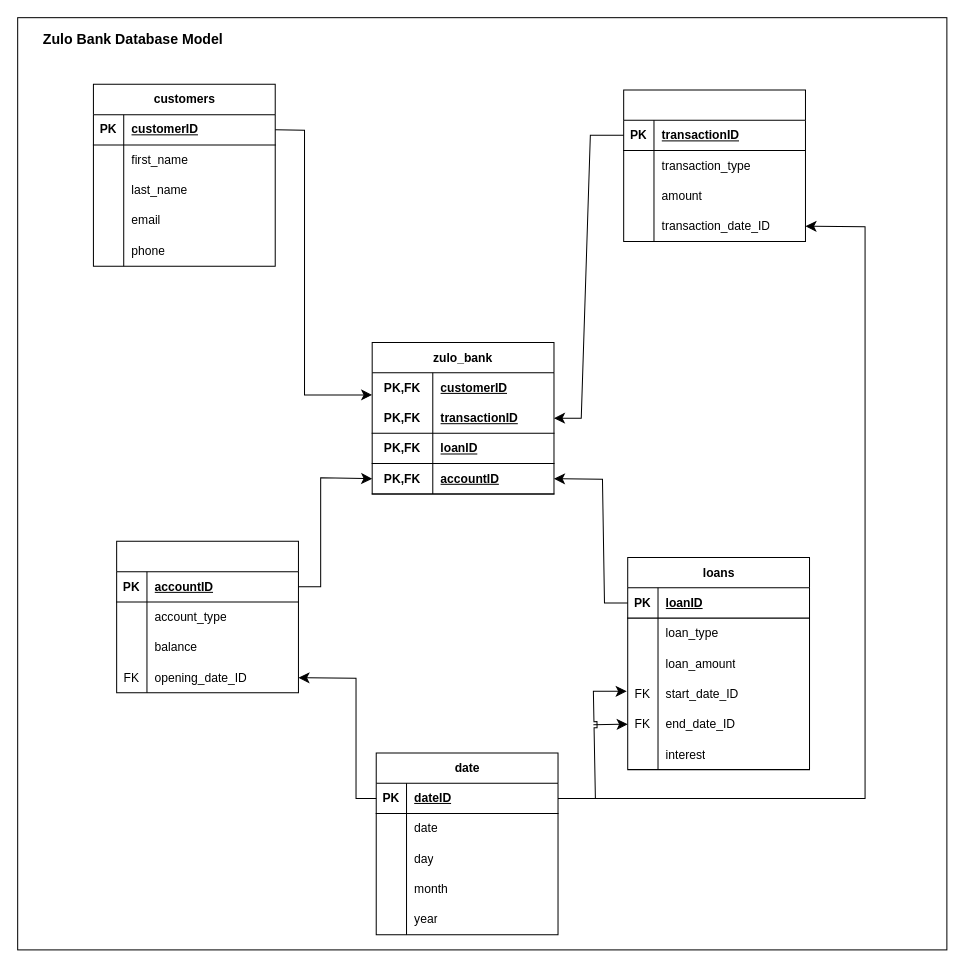
The diagram is 965 pixels wide and 968 high, and some of its shapes have lost their labels. The shapes that lost their labels are listed below. From the top down, each one's box as (x1, y1, x2, y2) in pixels, then its label:
(623, 89, 805, 241): transactions
(116, 540, 298, 693): accounts
